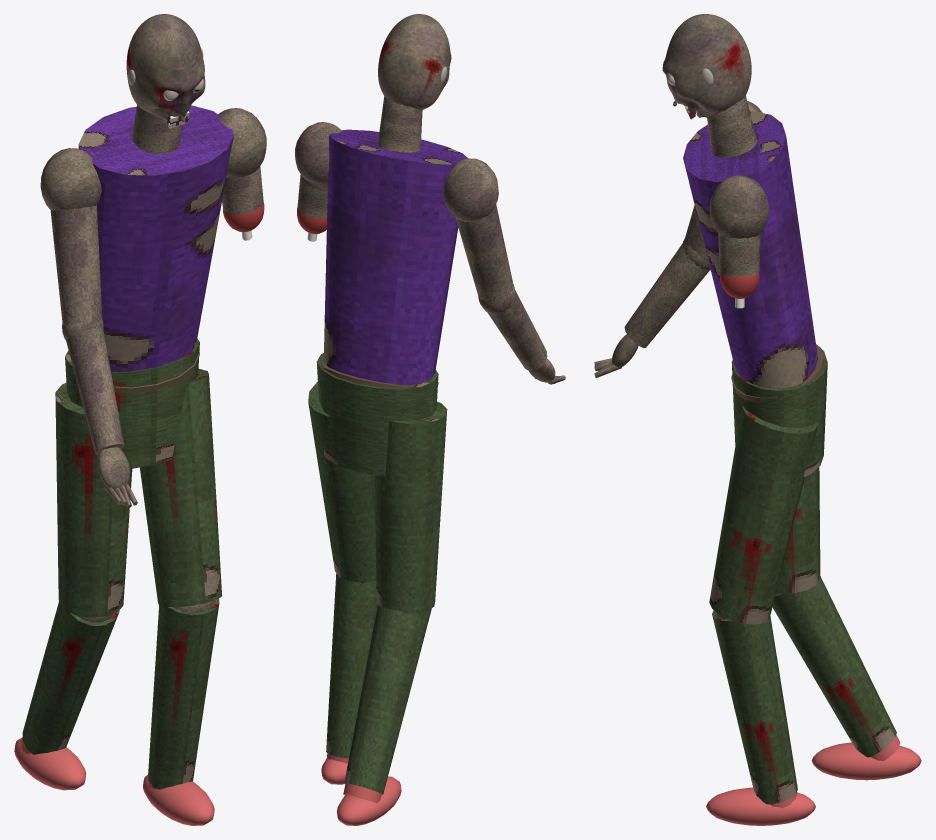
File: Zombie_074.glb
The picture shows the model from 3 angles, left to right: view 1: azimuth 30°, elevation 25°; view 2: azimuth 150°, elevation 25°; view 3: azimuth 270°, elevation 25°; orthographic projection. The views are drawn at different scales.
Parts seen in each view (by area): view 1: Zombie_074, object 9, object 3, object 4; view 2: Zombie_074, object 9, object 3; view 3: Zombie_074, object 9, object 3.
Boxes of the visible parts, box(x1,y1,x2,y2) form: Zombie_074: box(14, 105, 266, 825); object 9: box(126, 14, 205, 120); object 3: box(66, 328, 124, 455); object 4: box(98, 447, 129, 489); Zombie_074: box(295, 96, 513, 825); object 9: box(378, 14, 451, 109); object 3: box(487, 290, 547, 370); Zombie_074: box(683, 95, 921, 825); object 9: box(662, 14, 751, 118); object 3: box(624, 243, 709, 347).
Bounding box in the file's own units: 0.5753 × 2.05 × 0.7708.
Materials: 17 (5 with a texture image).
